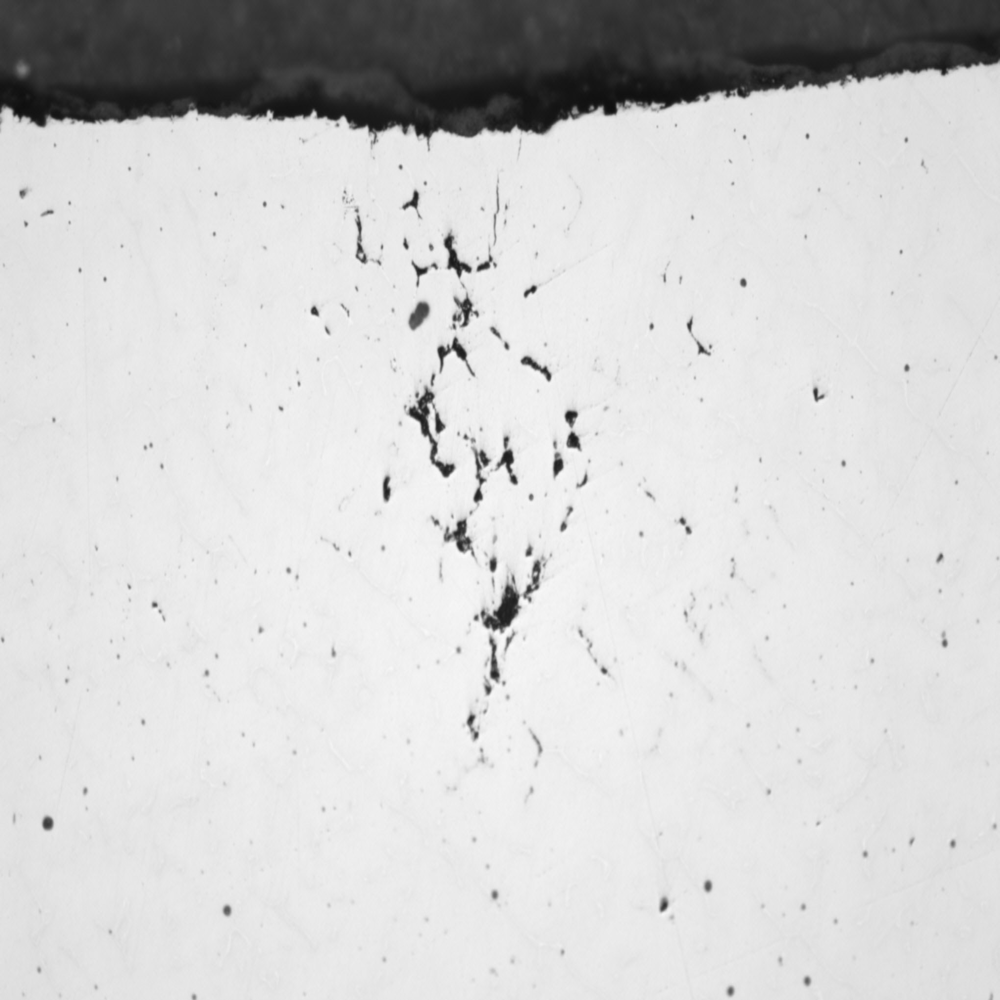crack: (324, 126, 614, 822)
